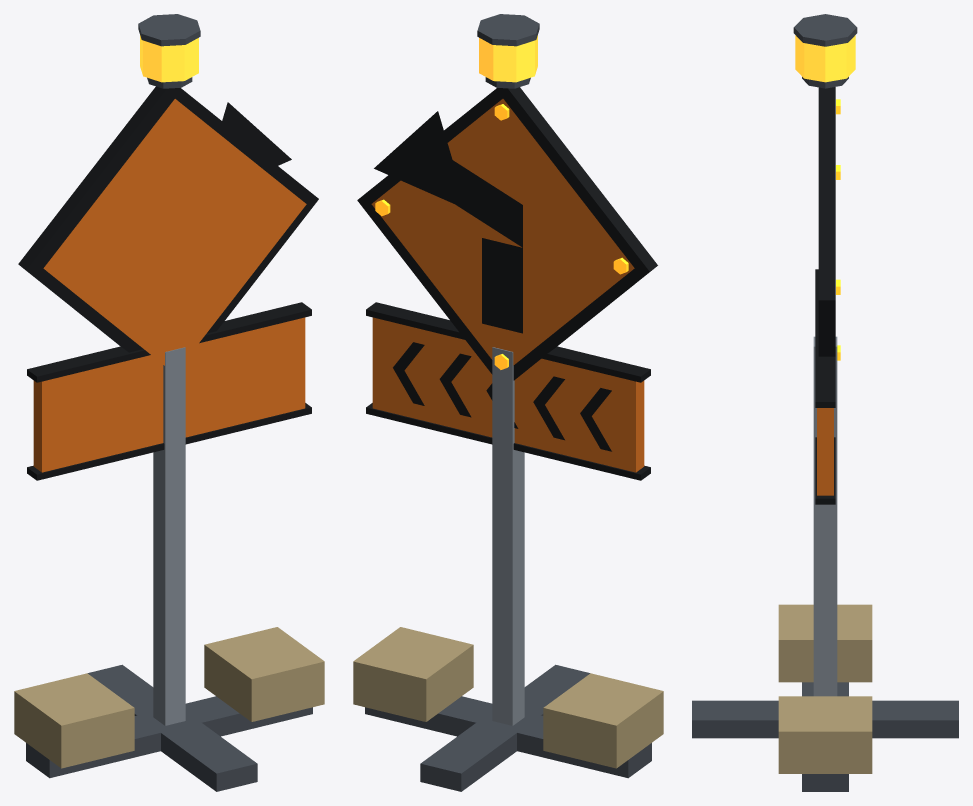
Rendered from roadblock_sign.glb.
3 renders of one model, left to right at view 1: azimuth 30°, elevation 25°; view 2: azimuth 150°, elevation 25°; view 3: azimuth 270°, elevation 25°, orthographic.
Parts seen in each view (by area): view 1: Body; view 2: Body; view 3: Body.
Part boxes in pixels (left/top/right/bottom): Body: left=14, top=14, right=324, bottom=791; Body: left=353, top=14, right=663, bottom=791; Body: left=692, top=14, right=958, bottom=791.
Bounding box in the file's own units: 1 × 2.32 × 0.8.
